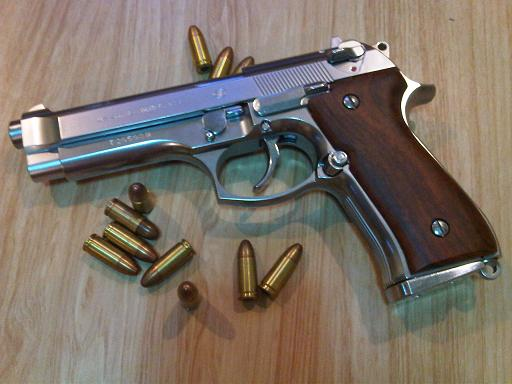gun: (6, 30, 508, 315)
